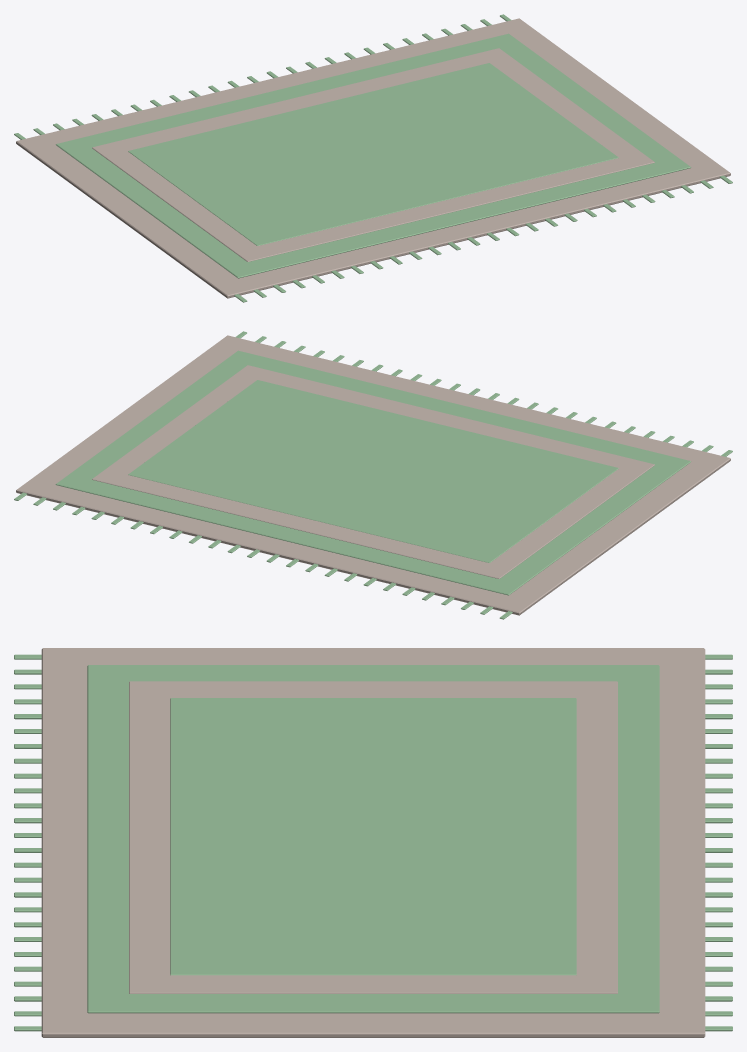
The model's file is care-home-and-day-room-day-room-rug-green-051c528e__35742.glb.
3 views of the same model, one above another, from view 1: azimuth 30°, elevation 25°; view 2: azimuth 150°, elevation 25°; view 3: azimuth 270°, elevation 25° (orthographic). The views are drawn at different scales.
Visible parts, largest first — view 1: day-room-rug-green; view 2: day-room-rug-green; view 3: day-room-rug-green.
Boxes of the visible parts, left/top/right/bottom form: day-room-rug-green: left=14, top=14, right=732, bottom=302; day-room-rug-green: left=14, top=331, right=732, bottom=619; day-room-rug-green: left=14, top=648, right=732, bottom=1037.
Bounding box in the file's own units: 2.2 × 0.025 × 1.73.
